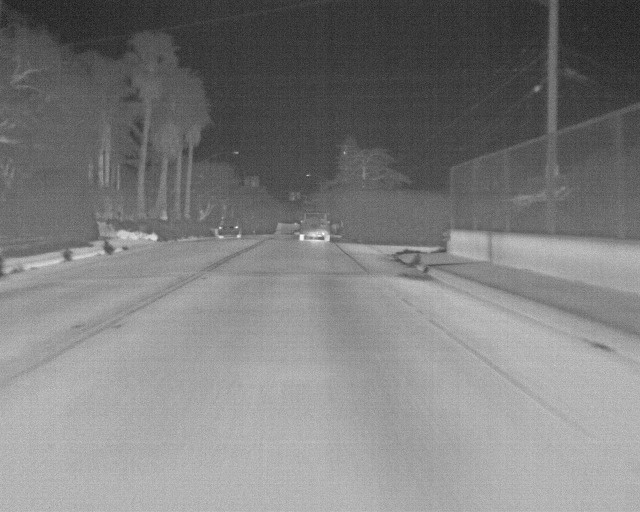vehicle: (297, 215, 332, 244), (211, 216, 247, 242)
